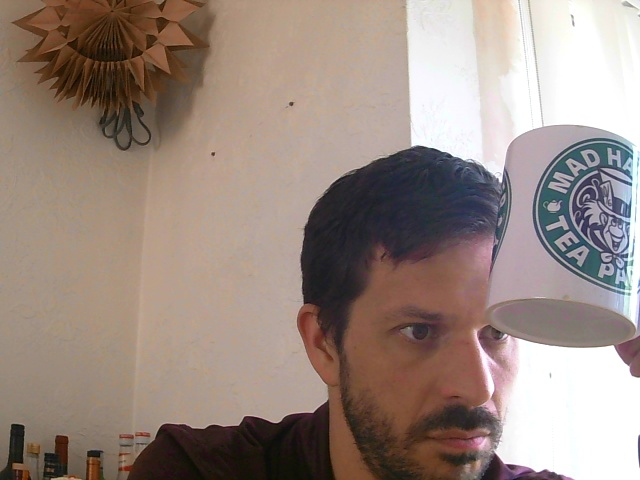mug: (484, 123, 640, 350)
